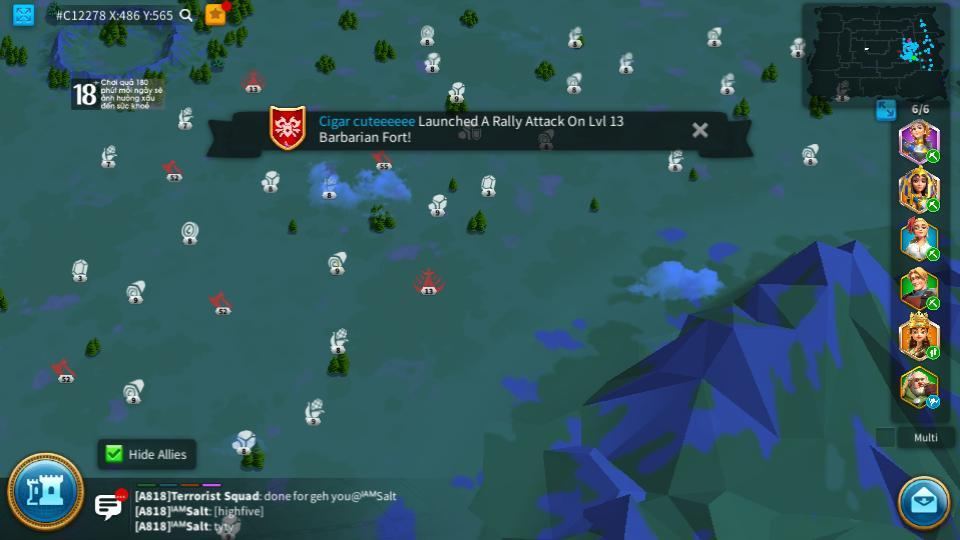gem-z-out: (69, 259, 89, 282), (565, 71, 583, 93), (478, 175, 496, 196), (418, 24, 436, 44)
march_idle: (925, 396, 942, 408)
march_marching: (925, 197, 941, 212), (925, 150, 942, 162), (925, 248, 942, 260), (925, 347, 941, 359), (925, 297, 942, 308)
